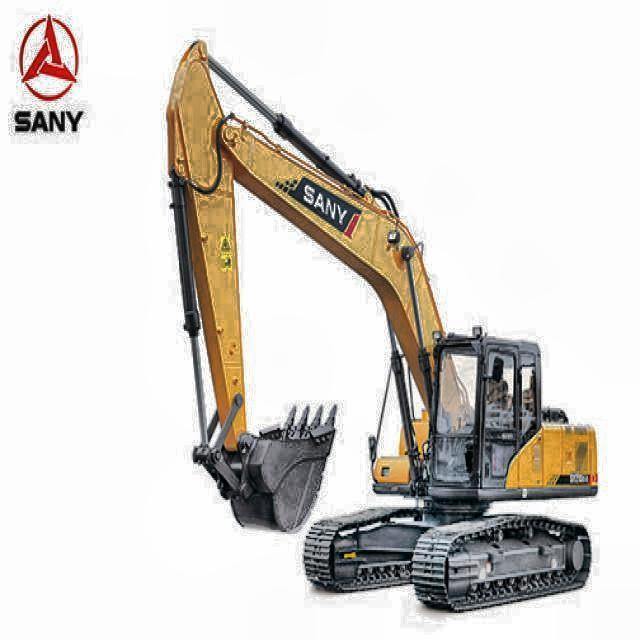excavator: (162, 35, 601, 612)
